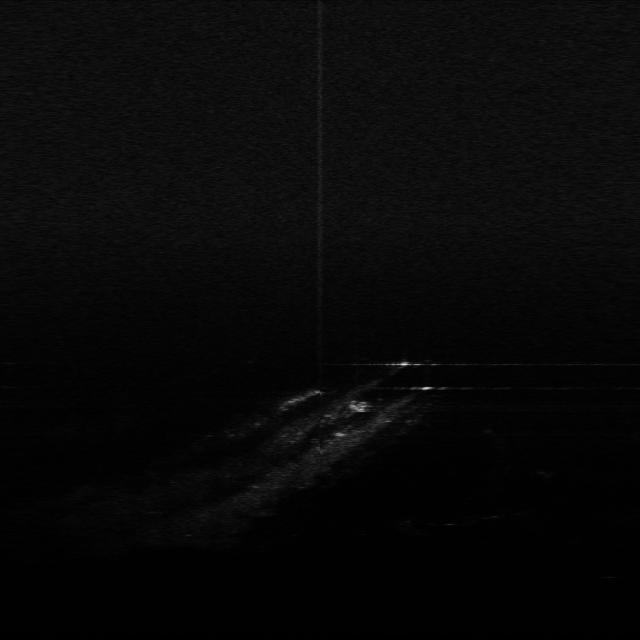rov: (344, 394, 374, 414)
